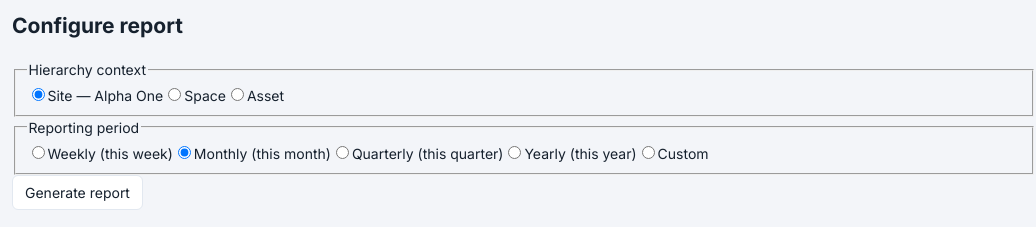
Test: SitePerformanceReportConfig (EMS-REQ-111) › Space/Asset selection is required before Generate is enabled
Check: the button with test id "report-config-generate" is shown, box [12, 175, 143, 210]
Click the radio button labelled "Space" at (175, 95), box [168, 88, 181, 101]
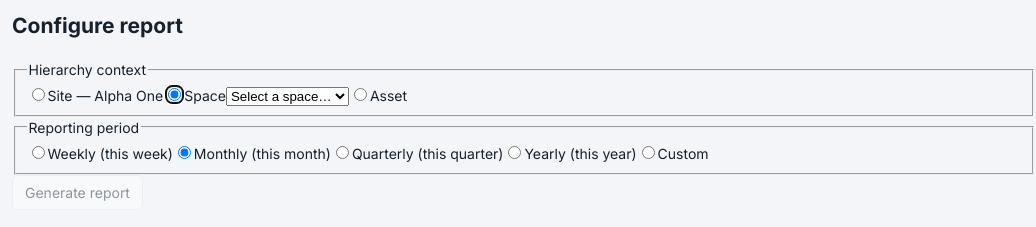
Check: the button with test id "report-config-generate" is disabled, box [12, 175, 143, 210]
Select "Banquet Hall" in the dropdown with test id "report-config-space-select" at (287, 97), box [226, 87, 349, 106]
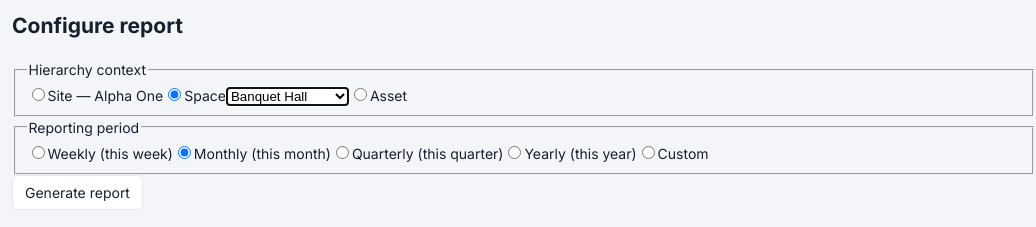
Check: the button with test id "report-config-generate" is enabled, box [12, 175, 143, 210]
